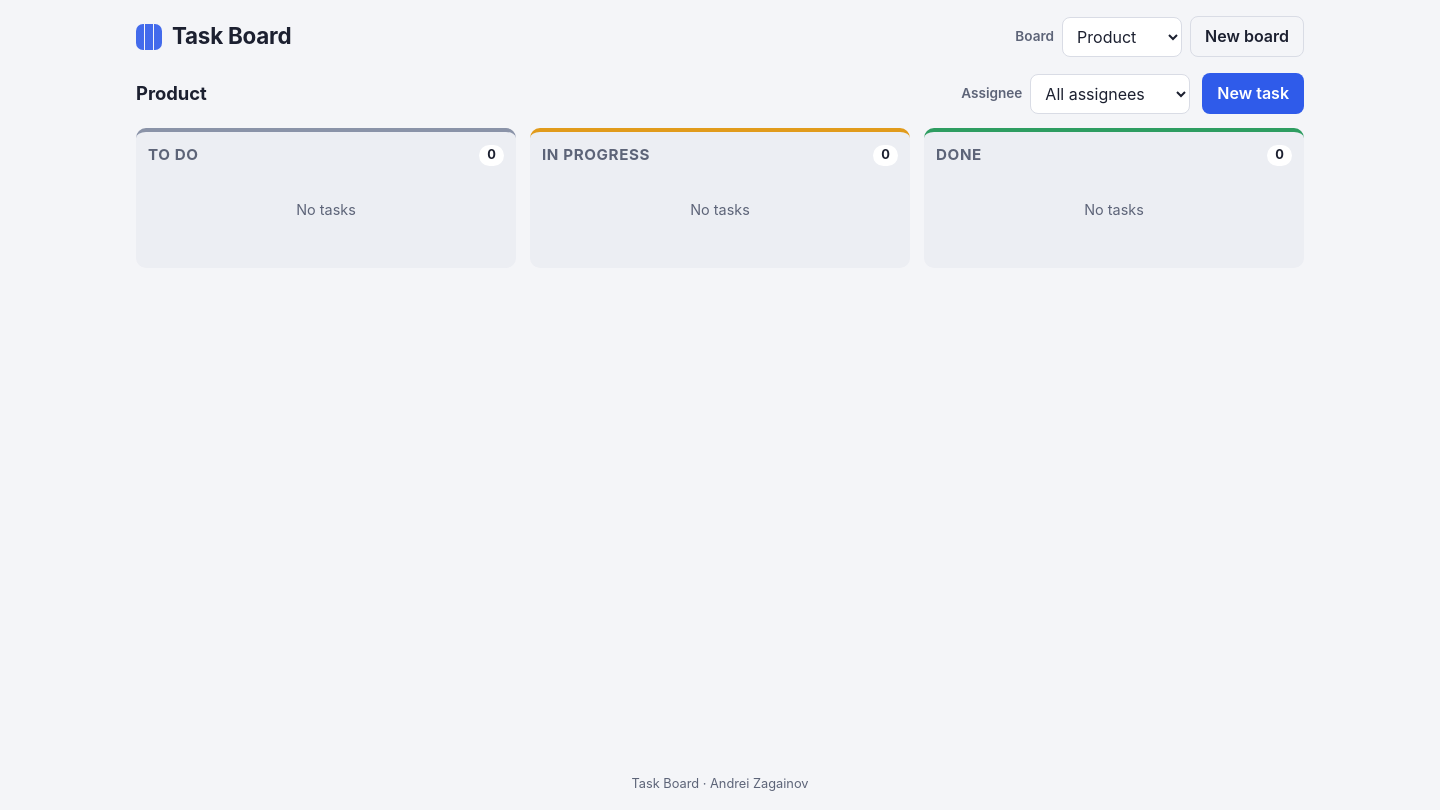
Scenario: App › creates a task through the dialog
Click the button "New task".
click(1253, 94)  # box [1202,73,1304,114]
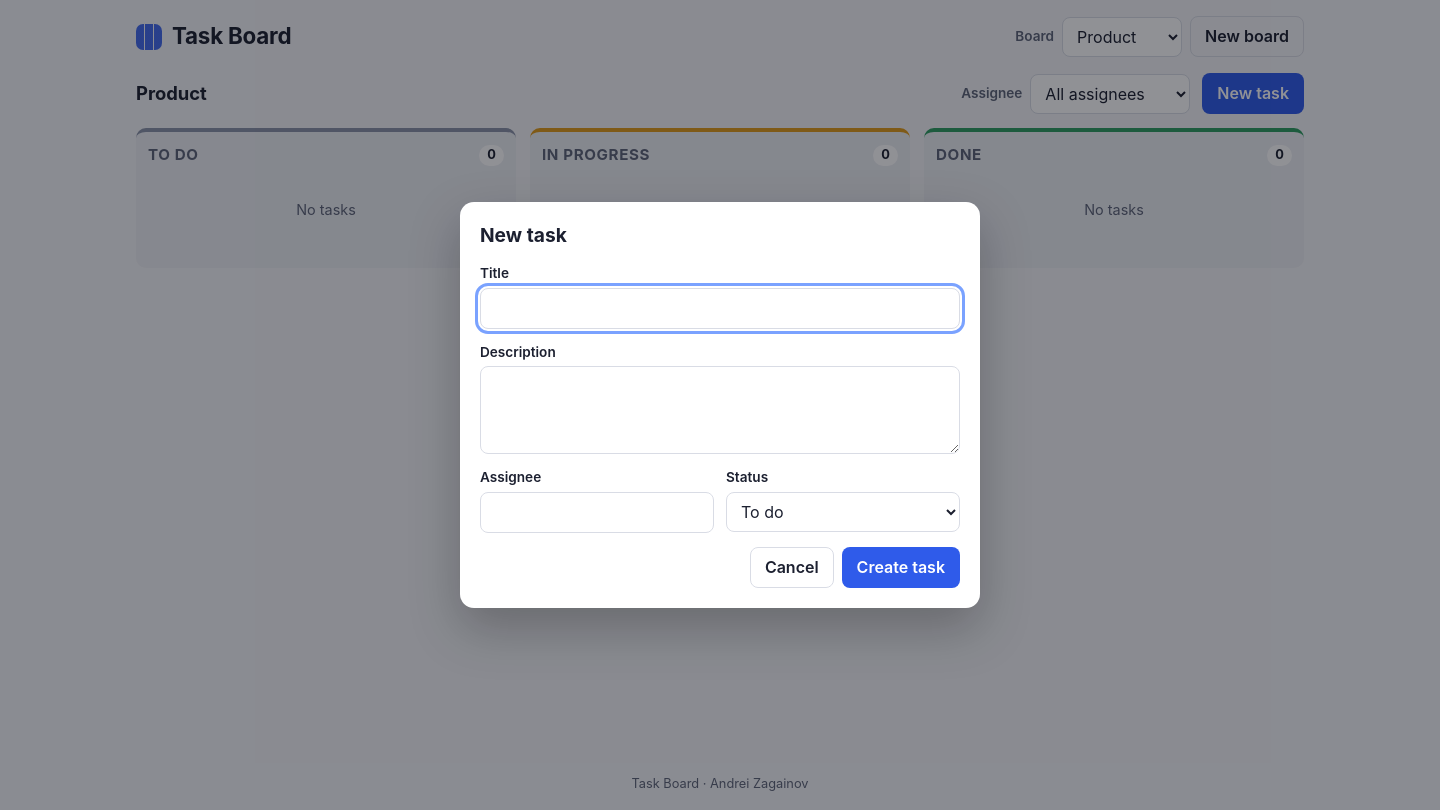
Type "Write README" into the field labelled "Title".
click(720, 308); type("Write README")  # box [480,288,960,329]
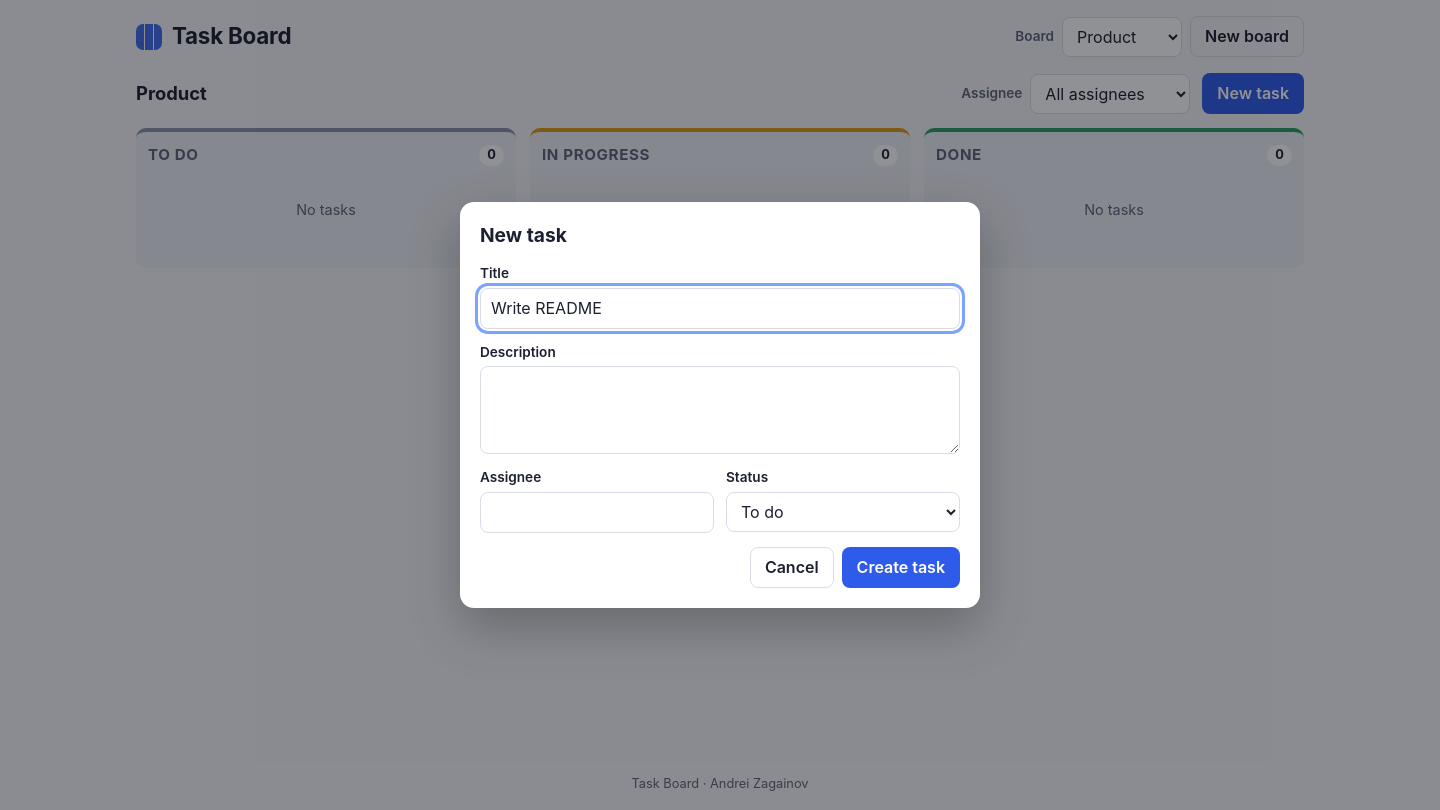
Type "alice" into the field labelled "Assignee".
click(597, 512); type("alice")  # box [480,492,714,533]
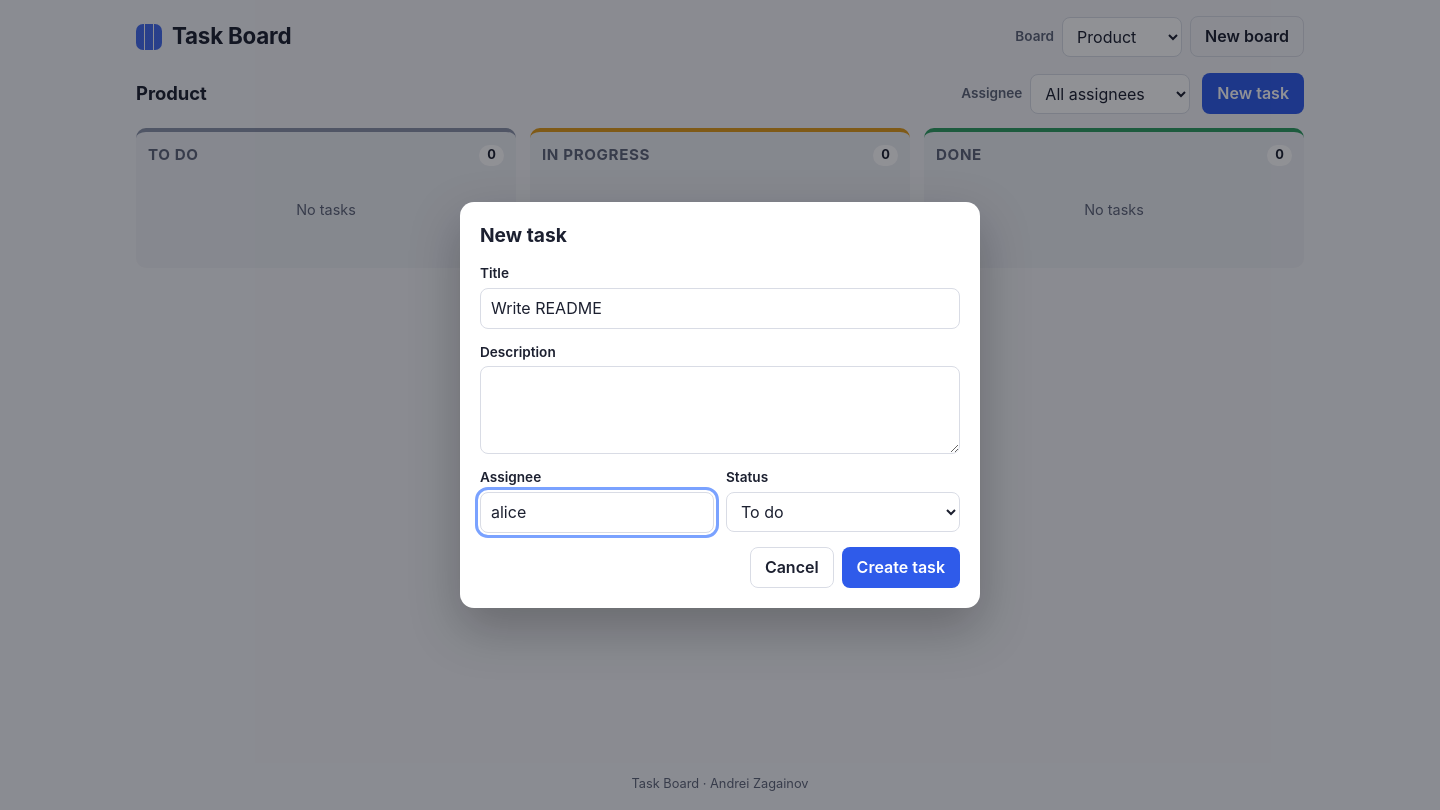
Click the button "Create task".
click(901, 567)  # box [842,547,960,588]
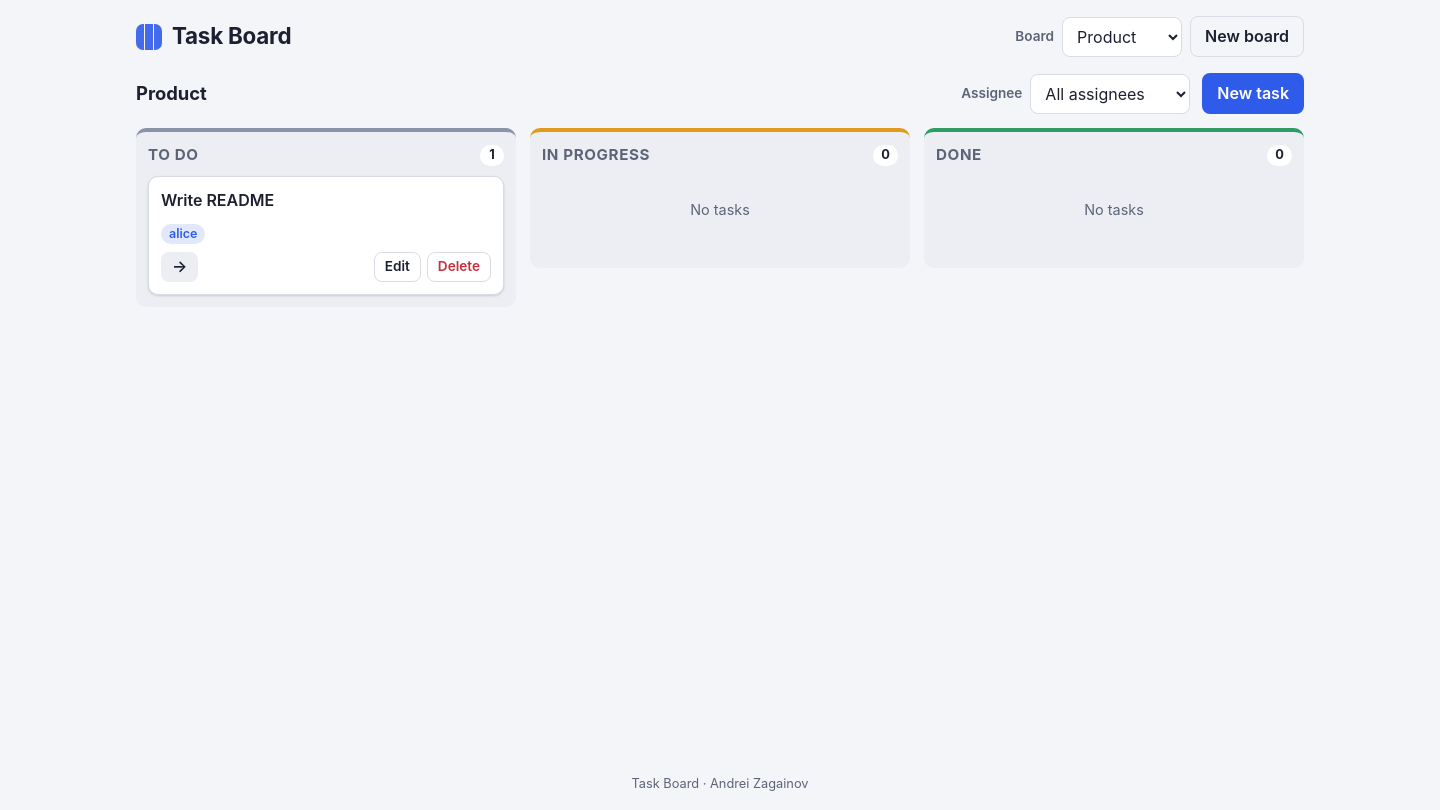
expect the dialog is gone: met
